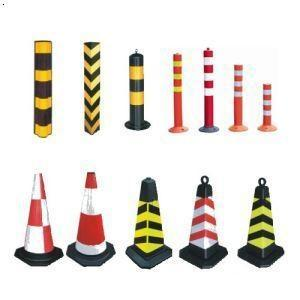cone_barrel: (68, 166, 110, 262), (15, 171, 58, 264), (240, 178, 282, 261), (125, 179, 167, 261), (182, 176, 222, 262), (28, 43, 54, 134), (77, 38, 103, 128), (165, 51, 188, 134), (125, 48, 147, 130), (198, 48, 220, 129), (228, 60, 246, 132), (256, 82, 275, 132)
